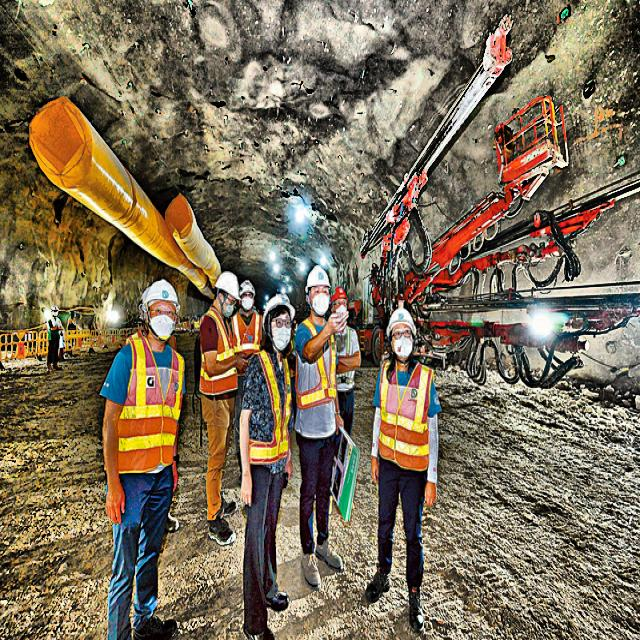safety_helmet: (385, 305, 420, 366), (202, 266, 248, 304), (139, 277, 183, 315), (302, 260, 337, 294), (389, 330, 416, 365), (309, 290, 333, 320), (334, 274, 352, 306), (236, 276, 262, 298)
safety_jacket: (114, 330, 188, 479), (375, 358, 437, 475), (250, 354, 298, 466), (293, 322, 340, 420), (198, 301, 238, 400)
